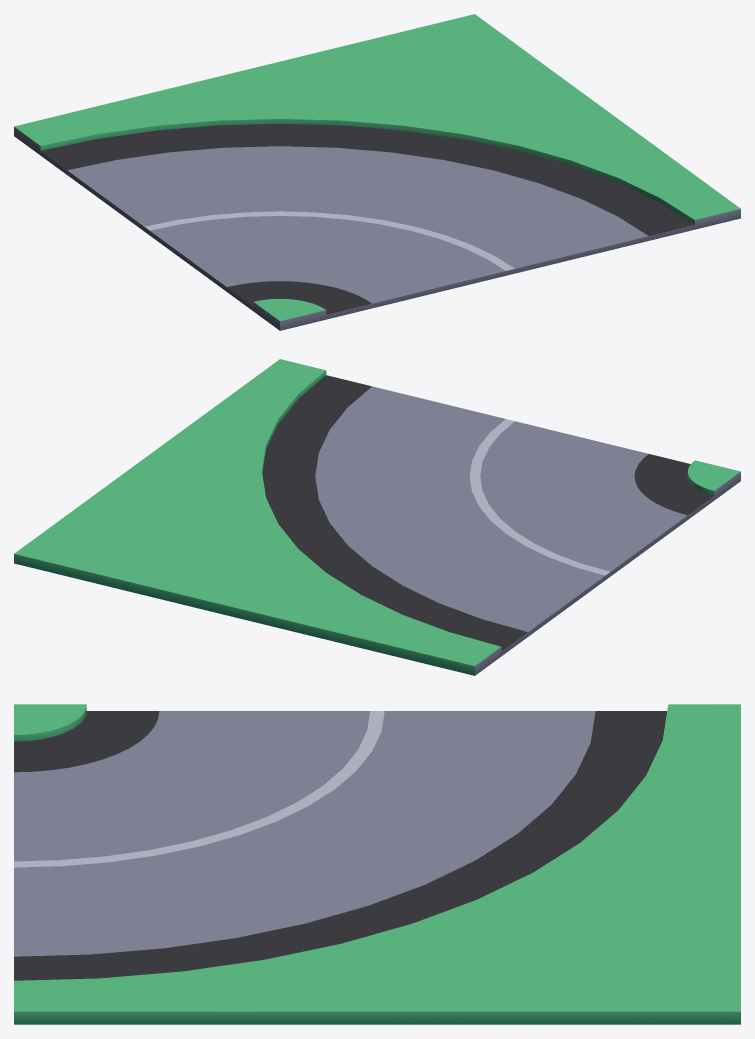
The model's file is road_bend_sidewalk.glb.
3 renders of one model, top to bottom at view 1: azimuth 30°, elevation 25°; view 2: azimuth 150°, elevation 25°; view 3: azimuth 270°, elevation 25°, orthographic. The views are drawn at different scales.
Parts seen in each view (by area): view 1: road-bend-sidewalk; view 2: road-bend-sidewalk; view 3: road-bend-sidewalk.
Part boxes in pixels (x1=…): road-bend-sidewalk: x1=14, y1=14, x2=740, y2=330; road-bend-sidewalk: x1=14, y1=359, x2=740, y2=675; road-bend-sidewalk: x1=14, y1=704, x2=740, y2=1024.
Size of the model in its own units: 1 by 0.02 by 1.
1 material, 1 textured.
